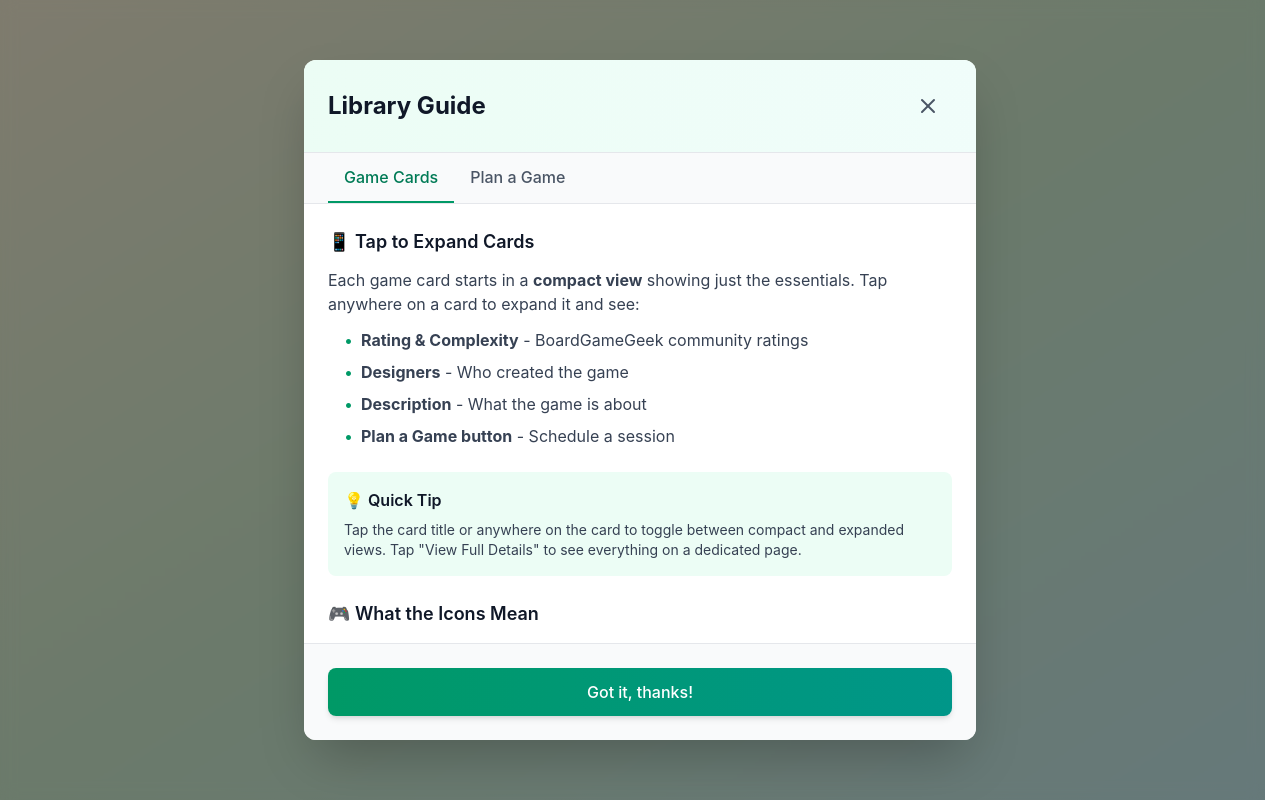
Test case: HelpModal Component › Tab Switching › switches to AfterGame tab when clicked
The width and height of the screenshot is (1280, 800).
Step 1. Click the button "Plan a Game" → (518, 178), box [454,153,581,203]
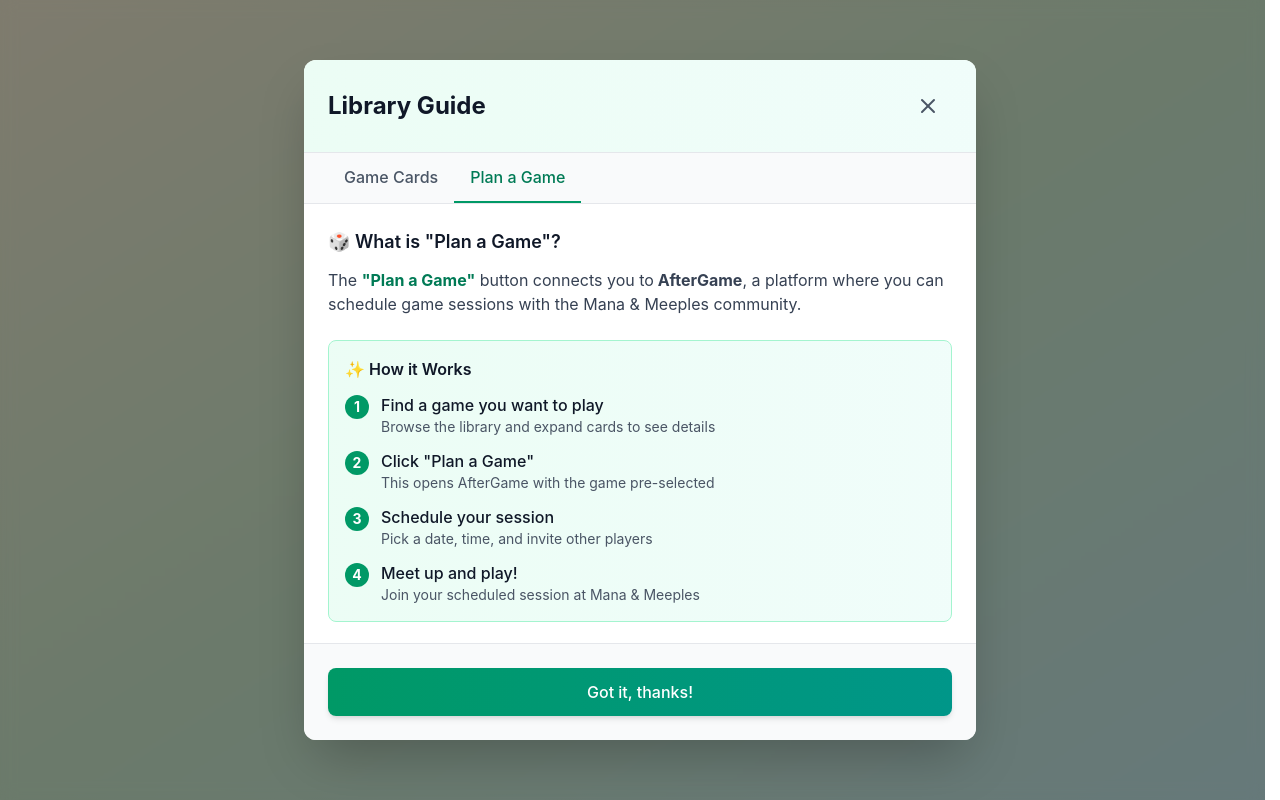
Expected: the heading "🎲 What is \"Plan a Game\"?" is shown, [328,231,561,252]
